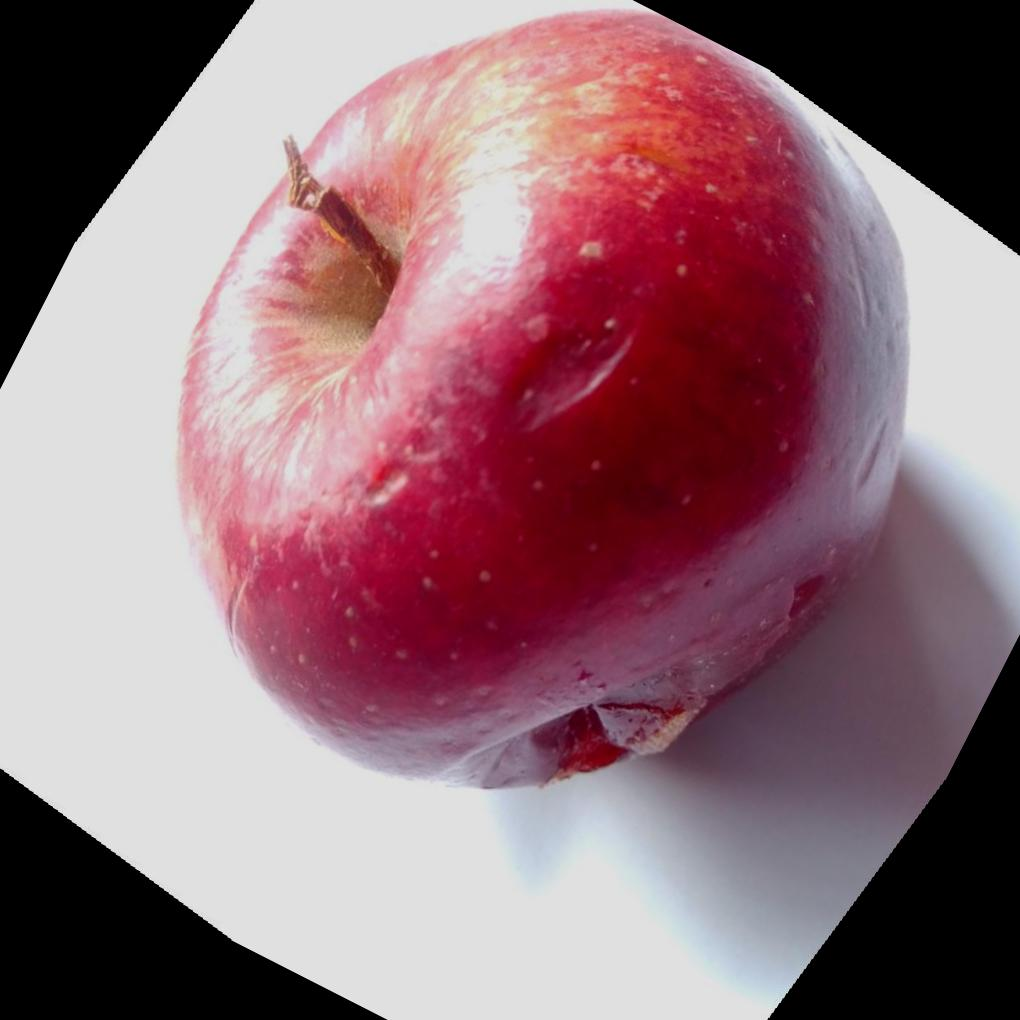FreshOrange: (171, 5, 910, 794)
